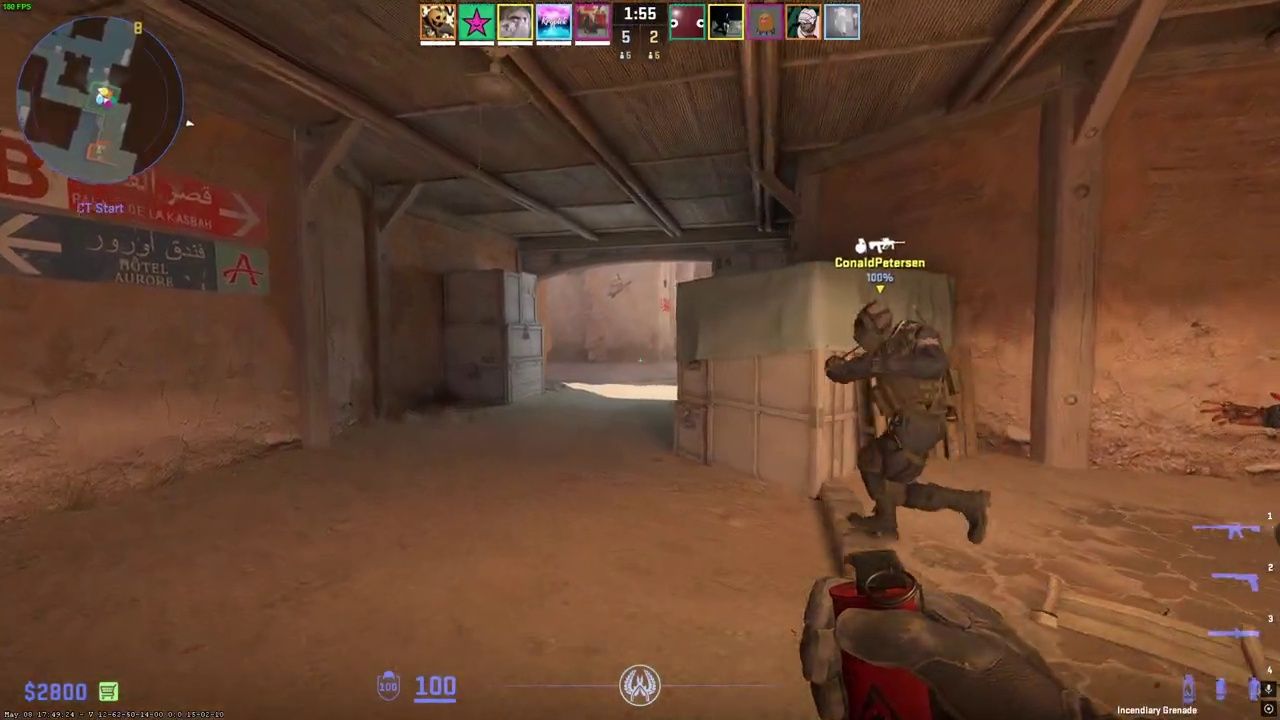CT: (840, 299, 954, 540)
